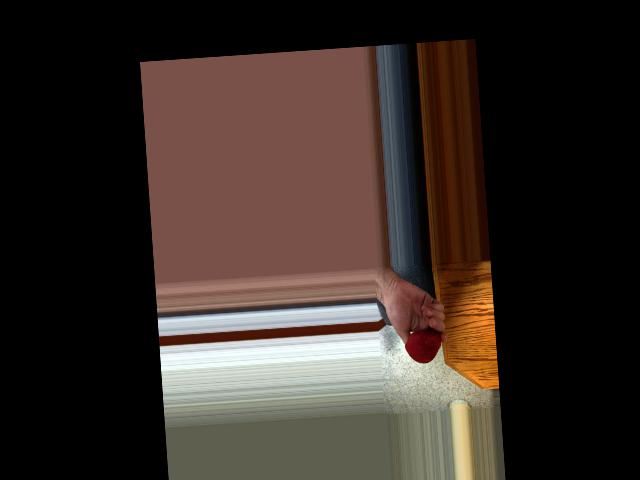apple: (404, 329, 440, 364)
